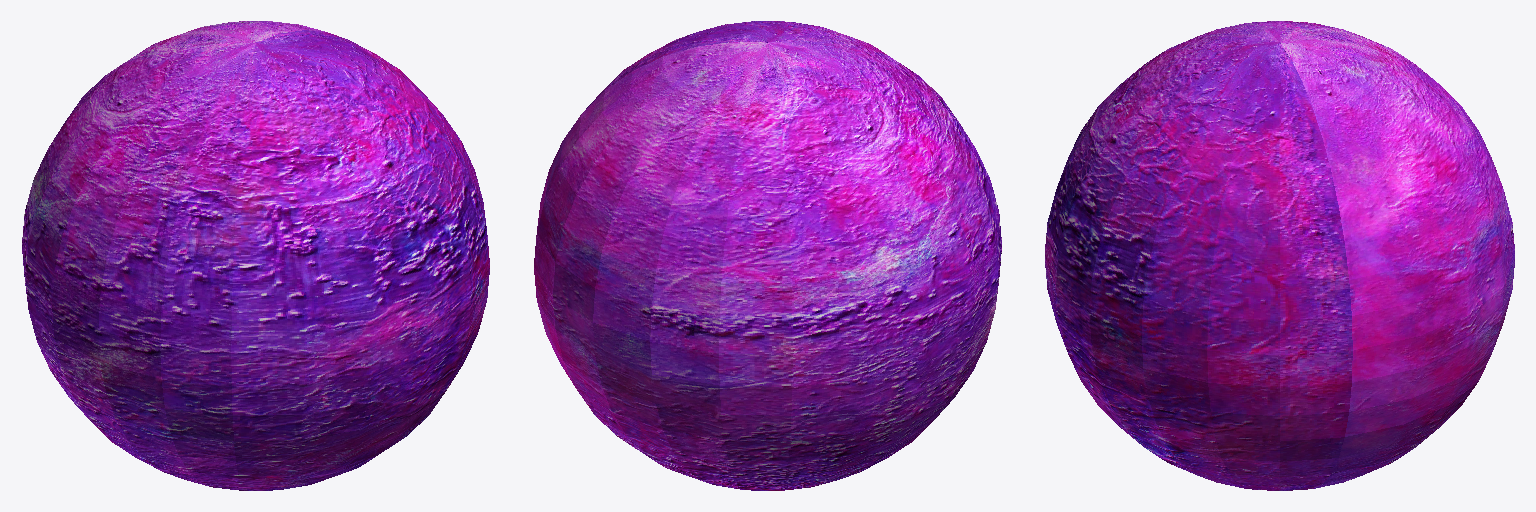
3 renders of one model, left to right at view 1: azimuth 30°, elevation 25°; view 2: azimuth 150°, elevation 25°; view 3: azimuth 270°, elevation 25°, orthographic.
Parts seen in each view (by area): view 1: pSphere3; view 2: pSphere3; view 3: pSphere3.
Part boxes in pixels (bbox=[...]): pSphere3: bbox=[22, 21, 489, 490]; pSphere3: bbox=[534, 21, 1001, 490]; pSphere3: bbox=[1045, 21, 1514, 490].
Size of the model in its own units: 20 by 20 by 20.
1 materials, 1 textured.